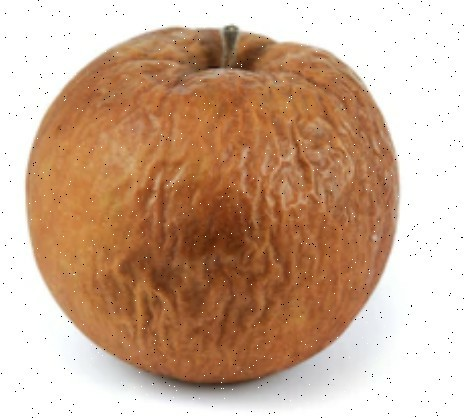rotten_apple: (27, 26, 401, 384)
